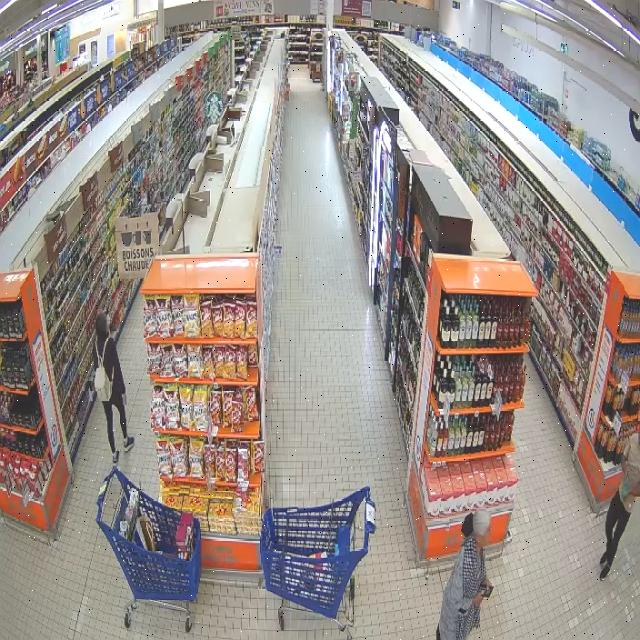article: (622, 477, 629, 499)
bags: (94, 338, 112, 402)
hands: (482, 576, 492, 588), (473, 594, 483, 606), (622, 465, 631, 477), (123, 393, 127, 405)
person: (437, 509, 490, 639), (93, 314, 134, 464), (600, 434, 639, 579)
